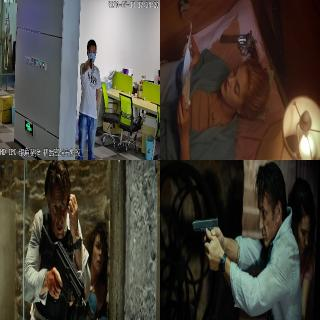gun: (39, 222, 87, 312), (216, 26, 260, 72), (190, 214, 218, 270), (88, 57, 95, 81)
